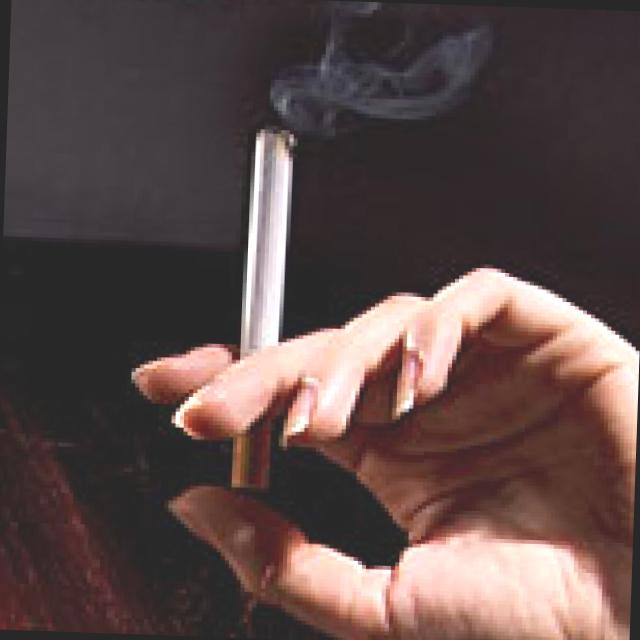smoke: (240, 124, 290, 350)
